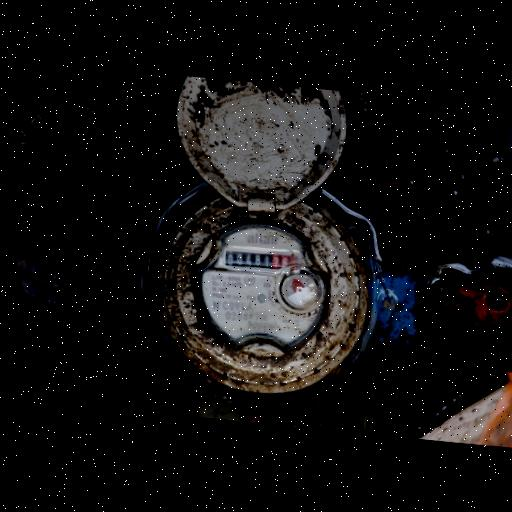0: (223, 250, 237, 266), (234, 250, 246, 266)
1: (261, 253, 273, 269)
4: (243, 252, 255, 268)
6: (278, 252, 292, 270)
7: (270, 254, 283, 270)
8: (252, 252, 264, 268)
border_water_meter_number: (218, 241, 304, 278)
